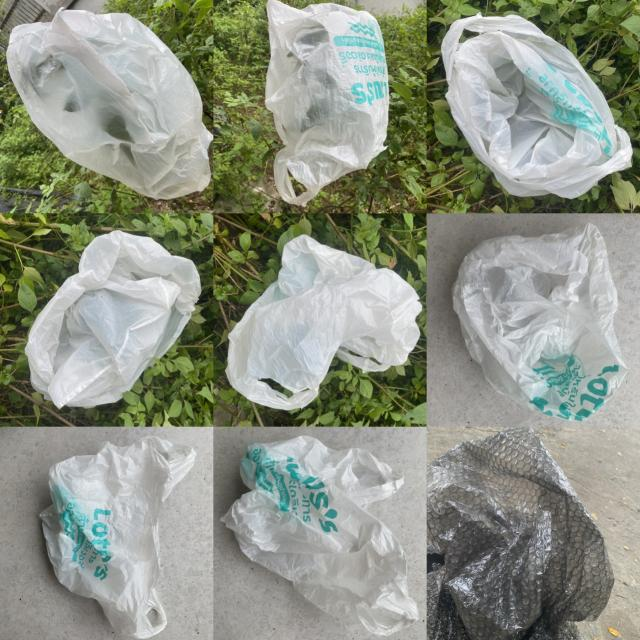Single-layer Plastic: (428, 428, 614, 639), (221, 436, 419, 634), (6, 9, 212, 199), (441, 14, 632, 199), (452, 224, 626, 421), (226, 235, 421, 409), (40, 436, 196, 639), (25, 231, 201, 408), (265, 0, 389, 206)
